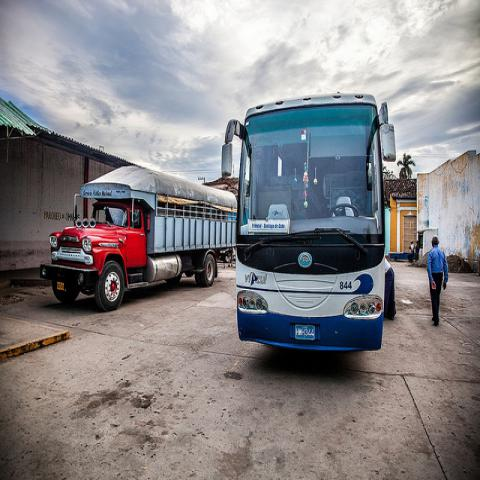bus: (222, 94, 396, 354)
truck: (39, 166, 241, 314)
